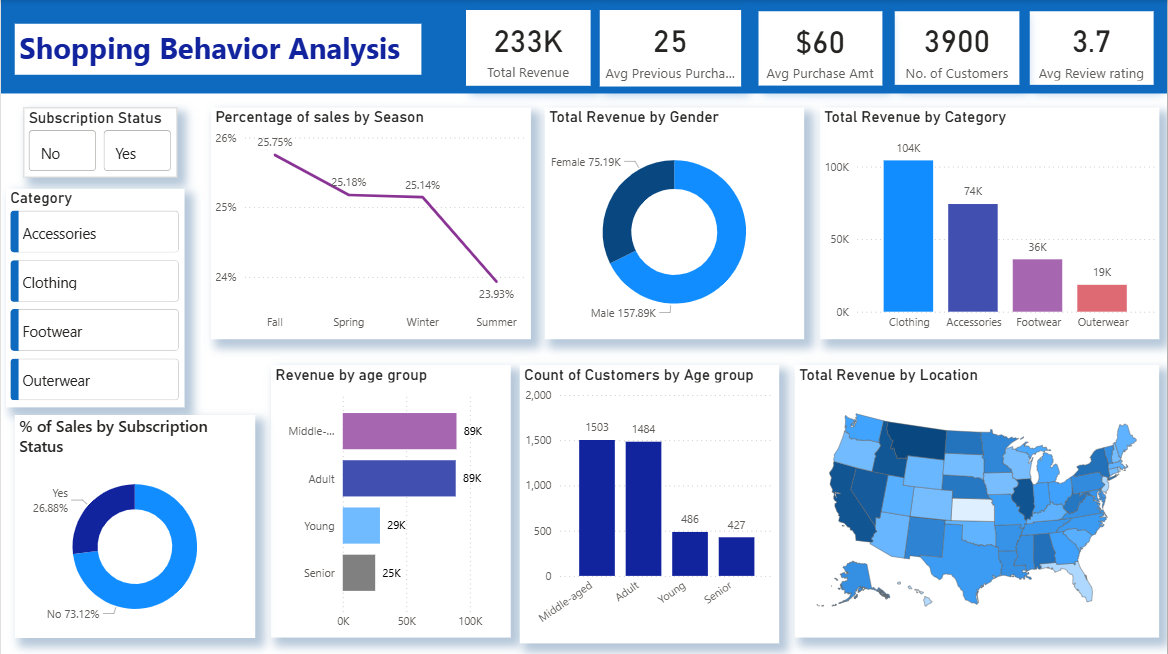

The page's visual inventory and layout, read from the dashboard file:
{"tool":"powerbi","page":{"name":"Page 1","canvas":[1280,720],"ordinal":0},"visuals":[{"type":"columnChart","fields":{"Category":["shopping_behavior.Category"],"Y":["shopping_behavior.Total Revenue"]},"box":[898.8,117.4,373,254.3],"z":0},{"type":"lineChart","title":"Percentage of sales by Season","fields":{"Y":["shopping_behavior.Sales_Perc"],"Category":["shopping_behavior.Season"]},"box":[229.9,117.4,351,254.3],"z":1000},{"type":"clusteredBarChart","title":"Revenue  by age group","fields":{"Category":["shopping_behavior.age_group"],"Y":["shopping_behavior.Total Revenue"]},"box":[295.9,401.1,262.9,299.6],"z":2000},{"type":"clusteredColumnChart","fields":{"Category":["shopping_behavior.age_group"],"Y":["CountNonNull(shopping_behavior.Customer ID)"]},"box":[569.8,401.1,284.9,305.7],"z":3000},{"type":"advancedSlicerVisual","fields":{"Values":["shopping_behavior.Subscription Status"]},"box":[24.5,117.4,168.8,77],"z":4000},{"type":"advancedSlicerVisual","fields":{"Values":["shopping_behavior.Category"]},"box":[6.1,206.7,195.7,232.3],"z":5000},{"type":"donutChart","title":"% of Sales by Subscription Status","fields":{"Y":["shopping_behavior.Sales_Perc"],"Category":["shopping_behavior.Subscription Status"]},"box":[14.7,456.1,264.1,244.6],"z":6000},{"type":"shapeMap","fields":{"Category":["shopping_behavior.Location"],"Value":["shopping_behavior.Total Revenue"]},"box":[871.9,401.1,399.9,299.6],"z":7000},{"type":"donutChart","fields":{"Y":["shopping_behavior.Total Revenue"],"Category":["shopping_behavior.Gender"]},"box":[596.7,117.4,284.9,254.3],"z":8000},{"type":"shape","box":[0,0,1280.3,102.7],"z":9000},{"type":"card","fields":{"Values":["shopping_behavior.Total Revenue"]},"box":[491.6,8.6,155.3,85.6],"z":10000},{"type":"card","fields":{"Values":["shopping_behavior.Average of Review rating"]},"box":[1127.5,7.3,138.2,85.6],"z":11000},{"type":"card","fields":{"Values":["shopping_behavior.Customer_Count"]},"box":[980.7,7.3,137,85.6],"z":12000},{"type":"card","fields":{"Values":["shopping_behavior.Average Purchase Amt"]},"box":[827.9,7.3,140.6,85.6],"z":13000},{"type":"card","fields":{"Values":["shopping_behavior.Average Purchase number"]},"box":[660.3,7.3,155.3,85.6],"z":14000},{"type":"textbox","box":[14.7,25.7,446.3,56.3],"z":15000}]}

Visuals, with their boxes in screenshot pixels (x1, y1, x2, y2), scaled from the page's 1280x720 canvas onto the 1168x654 screenshot:
columnChart - shopping_behavior.Category x shopping_behavior.Total Revenue: x1=820 y1=107 x2=1161 y2=338
"Percentage of sales by Season" lineChart: x1=210 y1=107 x2=530 y2=338
"Revenue  by age group" clusteredBarChart: x1=270 y1=364 x2=510 y2=636
clusteredColumnChart - shopping_behavior.age_group x CountNonNull(shopping_behavior.Customer ID): x1=520 y1=364 x2=780 y2=642
advancedSlicerVisual - shopping_behavior.Subscription Status: x1=22 y1=107 x2=176 y2=177
advancedSlicerVisual - shopping_behavior.Category: x1=6 y1=188 x2=184 y2=399
"% of Sales by Subscription Status" donutChart: x1=13 y1=414 x2=254 y2=636
shapeMap - shopping_behavior.Location x shopping_behavior.Total Revenue: x1=796 y1=364 x2=1161 y2=636
donutChart - shopping_behavior.Total Revenue x shopping_behavior.Gender: x1=544 y1=107 x2=804 y2=338
shape: x1=0 y1=0 x2=1167 y2=93
card - shopping_behavior.Total Revenue: x1=449 y1=8 x2=590 y2=86
card - shopping_behavior.Average of Review rating: x1=1029 y1=7 x2=1155 y2=84
card - shopping_behavior.Customer_Count: x1=895 y1=7 x2=1020 y2=84
card - shopping_behavior.Average Purchase Amt: x1=755 y1=7 x2=884 y2=84
card - shopping_behavior.Average Purchase number: x1=603 y1=7 x2=744 y2=84
textbox: x1=13 y1=23 x2=421 y2=74
